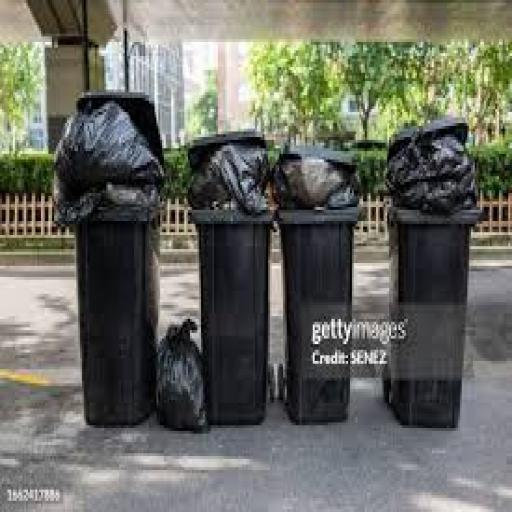poubelle_vide: (371, 77, 500, 438), (59, 78, 177, 442), (190, 74, 280, 437), (288, 78, 363, 431)
